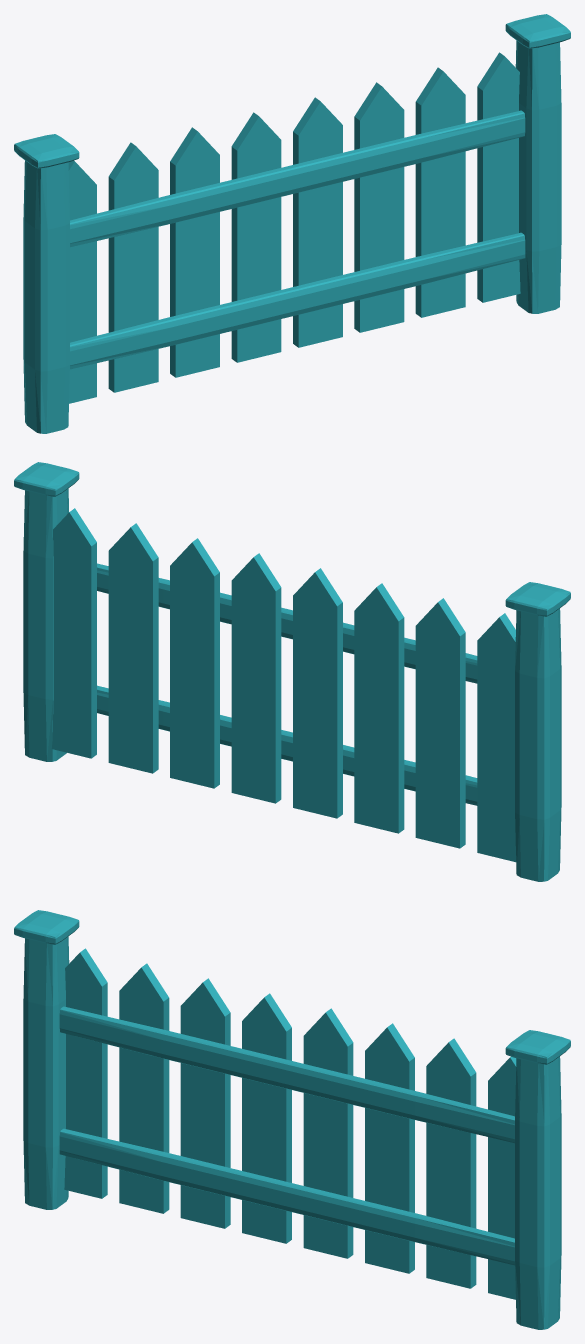
Rendered from PrimeCutFence.obj.
3 views of the same model, one above another, from view 1: azimuth 30°, elevation 25°; view 2: azimuth 150°, elevation 25°; view 3: azimuth 330°, elevation 25° (orthographic).
Visible parts, largest first — view 1: Paint; view 2: Paint; view 3: Paint.
Boxes of the visible parts, <box> form: Paint: <box>14,14,570,433</box>; Paint: <box>14,462,570,881</box>; Paint: <box>14,910,570,1329</box>.
Size of the model in its own units: 8.71 by 4.39 by 0.7108.
